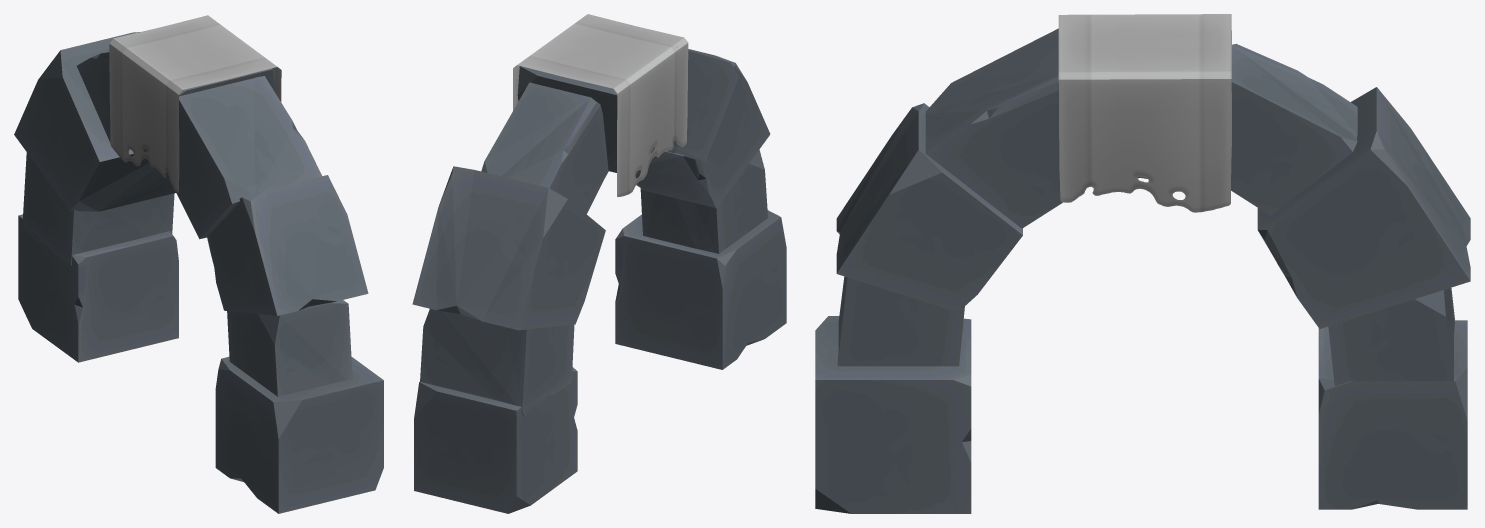
Rendered from WallEntrance2B-005_40_12_3677.fbx.
3 views of the same model, side by side, from view 1: azimuth 30°, elevation 25°; view 2: azimuth 150°, elevation 25°; view 3: azimuth 270°, elevation 25° (orthographic). The views are drawn at different scales.
Parts seen in each view (by area): view 1: Arch, Plane_002; view 2: Arch, Plane_002; view 3: Arch, Plane_002.
Part boxes in pixels (<box>): Arch: <box>14,32,383,513</box>; Plane_002: <box>109,15,281,192</box>; Arch: <box>412,46,786,513</box>; Plane_002: <box>513,14,688,196</box>; Arch: <box>815,28,1470,513</box>; Plane_002: <box>1058,14,1231,212</box>.
Size of the model in its own units: 1.39 by 4.39 by 5.96.
